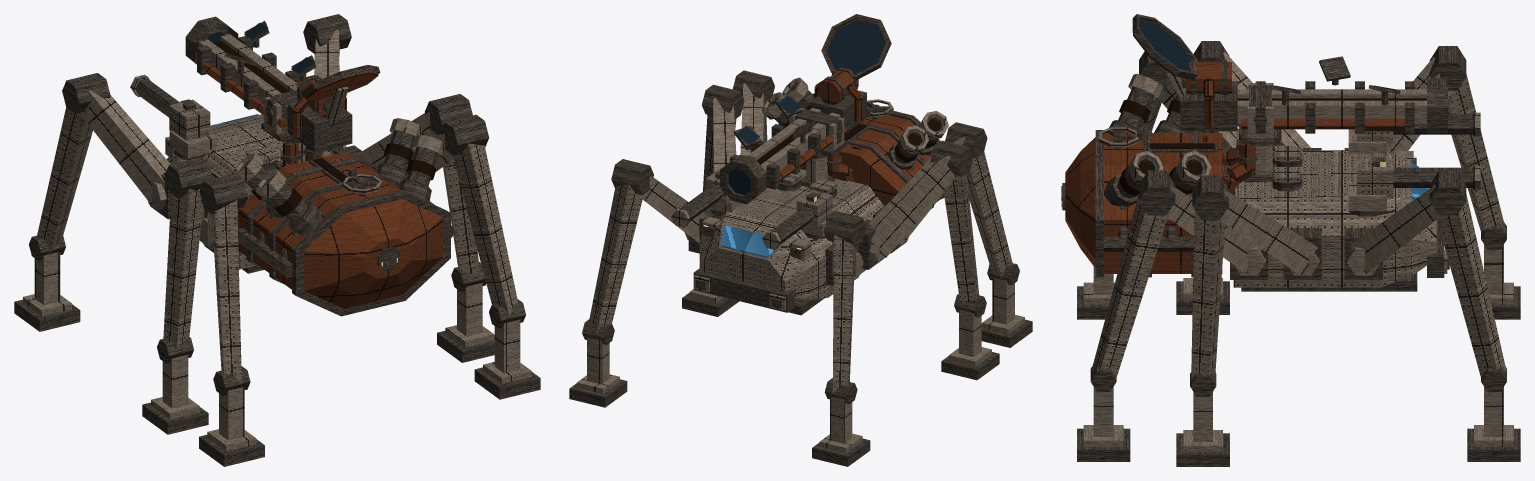
File: whip_scorpion.glb
3 views of the same model, side by side, from view 1: azimuth 30°, elevation 25°; view 2: azimuth 150°, elevation 25°; view 3: azimuth 270°, elevation 25° (orthographic). The views are drawn at different scales.
Visible parts, largest first — view 1: boiler, shin.005, shin.002, thigh, shin.004, shin, hoop.002, cab, shin.003, ray_breech, knee.004, knee.005 (+42 smaller); view 2: cab, shin.001, thigh.002, boiler, shin, shin.002, shin.004, mirror_face, bumper, thigh.001, ray_muzzle, thigh.003 (+32 smaller); view 3: cab, boiler, shin.005, shin.001, shin.003, thigh.003, shin, thigh.001, ray_rail.001, ray_breech, thigh.005, ray_rail (+51 smaller).
Part boxes in pixels (box(x1,y1,x2,y2)): boiler: box(238, 152, 442, 308); shin.005: box(453, 143, 518, 315); shin.002: box(163, 188, 202, 351); thigh: box(80, 90, 170, 203); shin.004: box(212, 195, 241, 381); shin: box(36, 103, 92, 252); hoop.002: box(292, 190, 450, 316); cab: box(166, 114, 334, 269); shin.003: box(440, 134, 480, 277); ray_breech: box(287, 101, 352, 152); knee.004: box(199, 173, 247, 214); knee.005: box(440, 114, 489, 155); cab: box(699, 168, 884, 299); shin.001: box(589, 180, 642, 334); thigh.002: box(868, 155, 954, 257); boiler: box(800, 115, 944, 205); shin: box(832, 230, 855, 392); shin.002: box(943, 174, 979, 305); shin.004: box(966, 151, 1012, 278); mirror_face: box(826, 19, 885, 74); bumper: box(693, 267, 794, 312); thigh.001: box(636, 175, 708, 243); ray_muzzle: box(720, 155, 766, 204); thigh.003: box(713, 98, 736, 172); cab: box(1233, 150, 1436, 287); boiler: box(1065, 133, 1222, 273); shin.005: box(1091, 194, 1170, 376); shin.001: box(1433, 187, 1506, 376); shin.003: box(1191, 210, 1224, 380); thigh.003: box(1220, 190, 1319, 275); shin: box(1448, 74, 1506, 232); thigh.001: box(1351, 185, 1440, 273); ray_rail.001: box(1237, 100, 1426, 123); ray_breech: box(1180, 81, 1237, 131); thigh.005: box(1165, 185, 1261, 273); ray_rail: box(1237, 89, 1426, 98).
Bounding box in the file's own units: 107 × 104 × 120.
9 materials, 9 textured.
